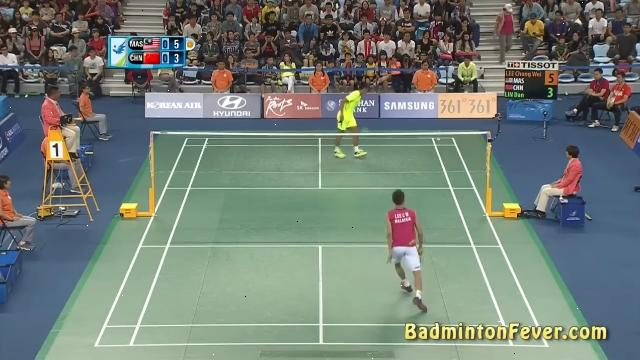Shuttlecock: (435, 136, 441, 142)
